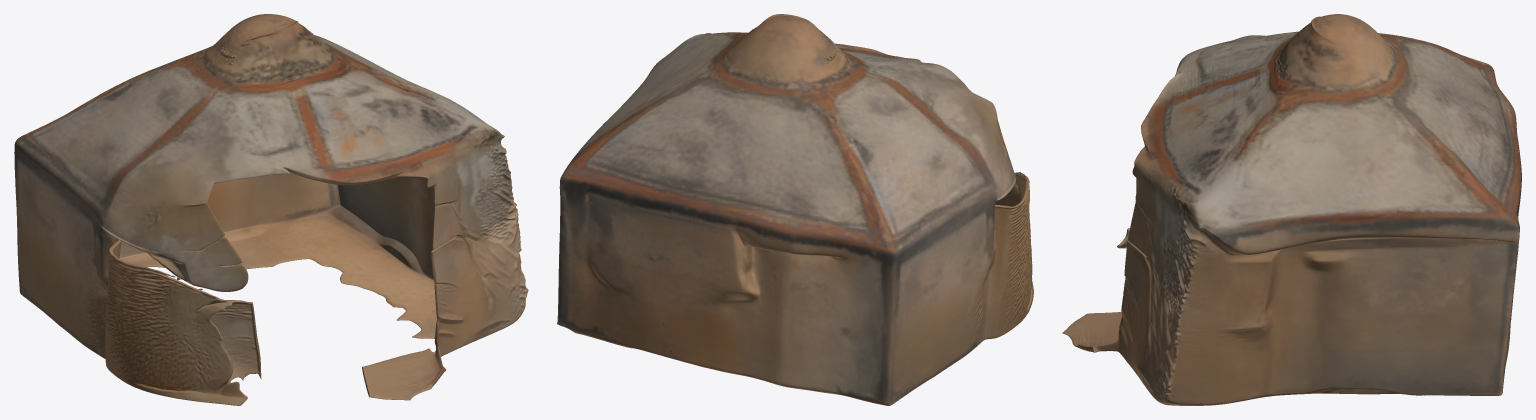
File: compressed-mox.glb
3 renders of one model, left to right at view 1: azimuth 30°, elevation 25°; view 2: azimuth 150°, elevation 25°; view 3: azimuth 270°, elevation 25°, orthographic. The views are drawn at different scales.
Visible parts, largest first — view 1: material; view 2: material; view 3: material.
Boxes of the visible parts, bbox=[...] form: material: bbox=[14, 14, 528, 405]; material: bbox=[557, 14, 1033, 405]; material: bbox=[1062, 14, 1521, 405].
Bounding box in the file's own units: 0.8295 × 0.6161 × 0.8354.
1 material, 1 textured.
